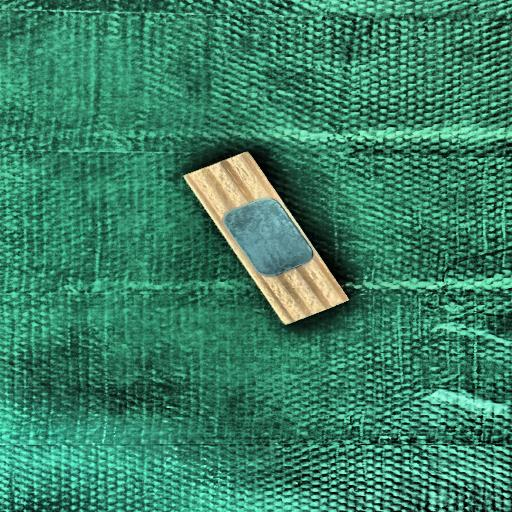objects: (181, 139, 349, 338)
